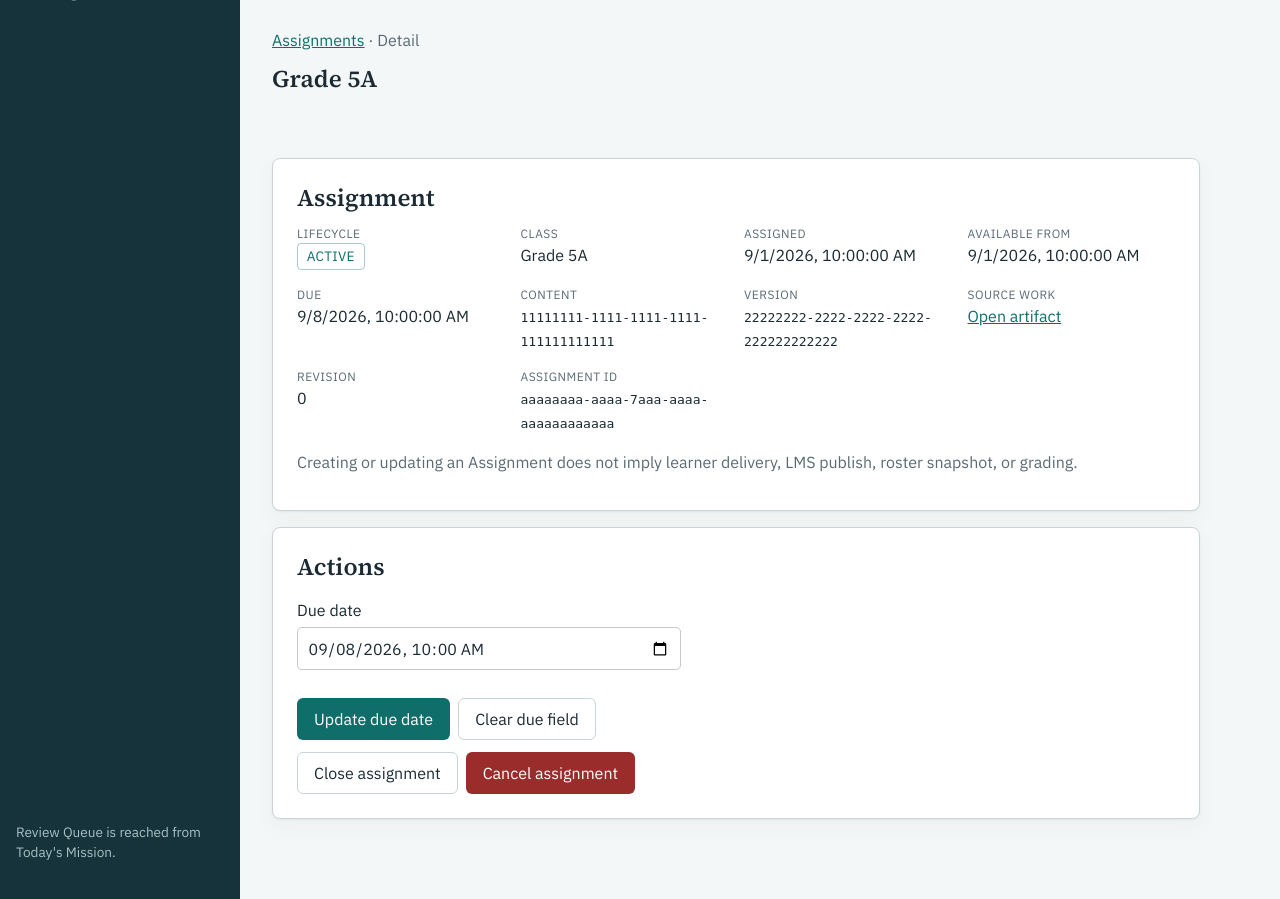
it: TOS-DEV06-I04 Assignment detail mutations › ACTIVE exposes due/close/cancel; fresh GET precedes PATCH with fresh If-Match
(page scrolled)
Check: the button "Update due date" is shown, box [297,698,450,740]
Clear the field labelled "Due date" at [489, 648], box [297,627,681,670]
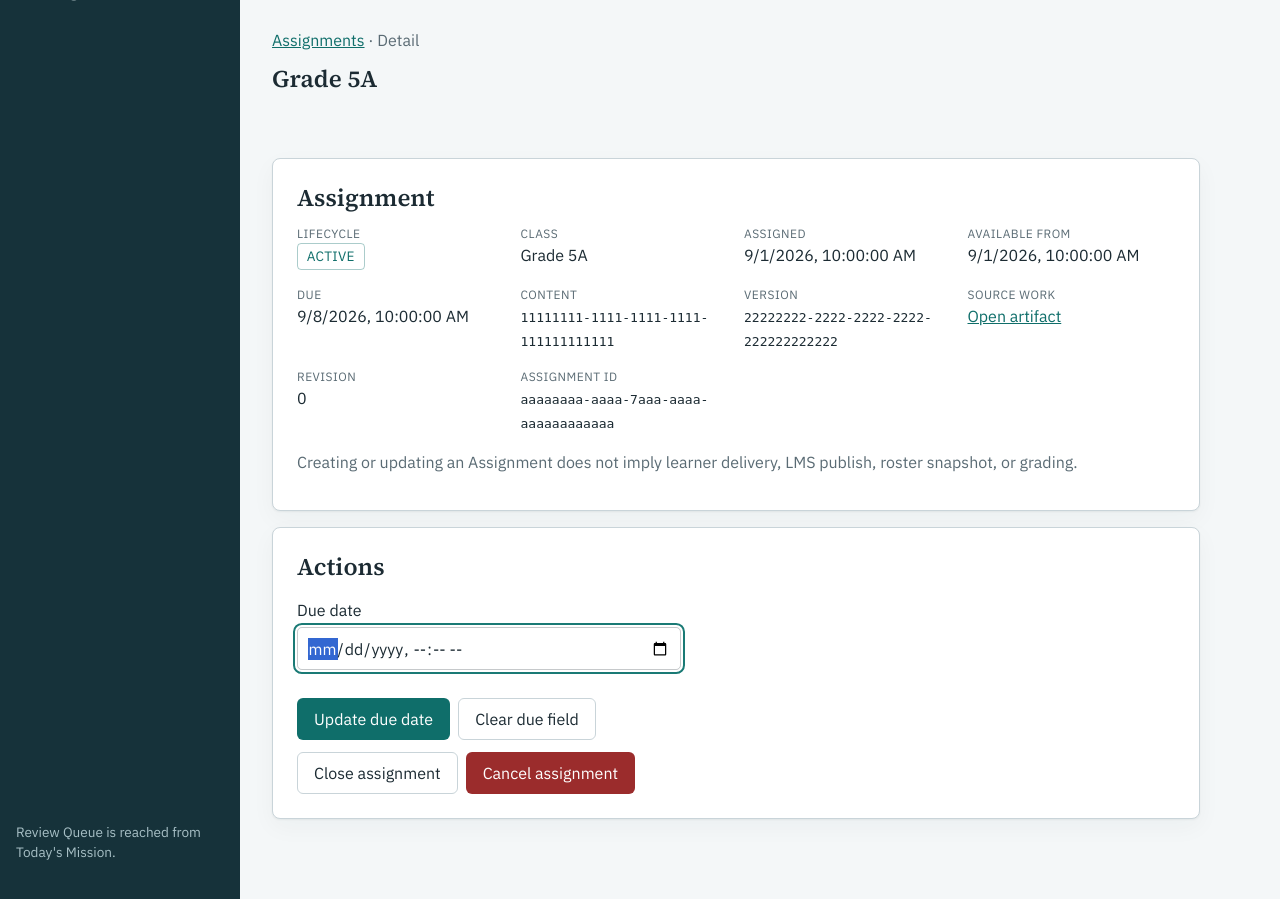
Click the button "Update due date" at [374, 719], box [297,698,450,740]
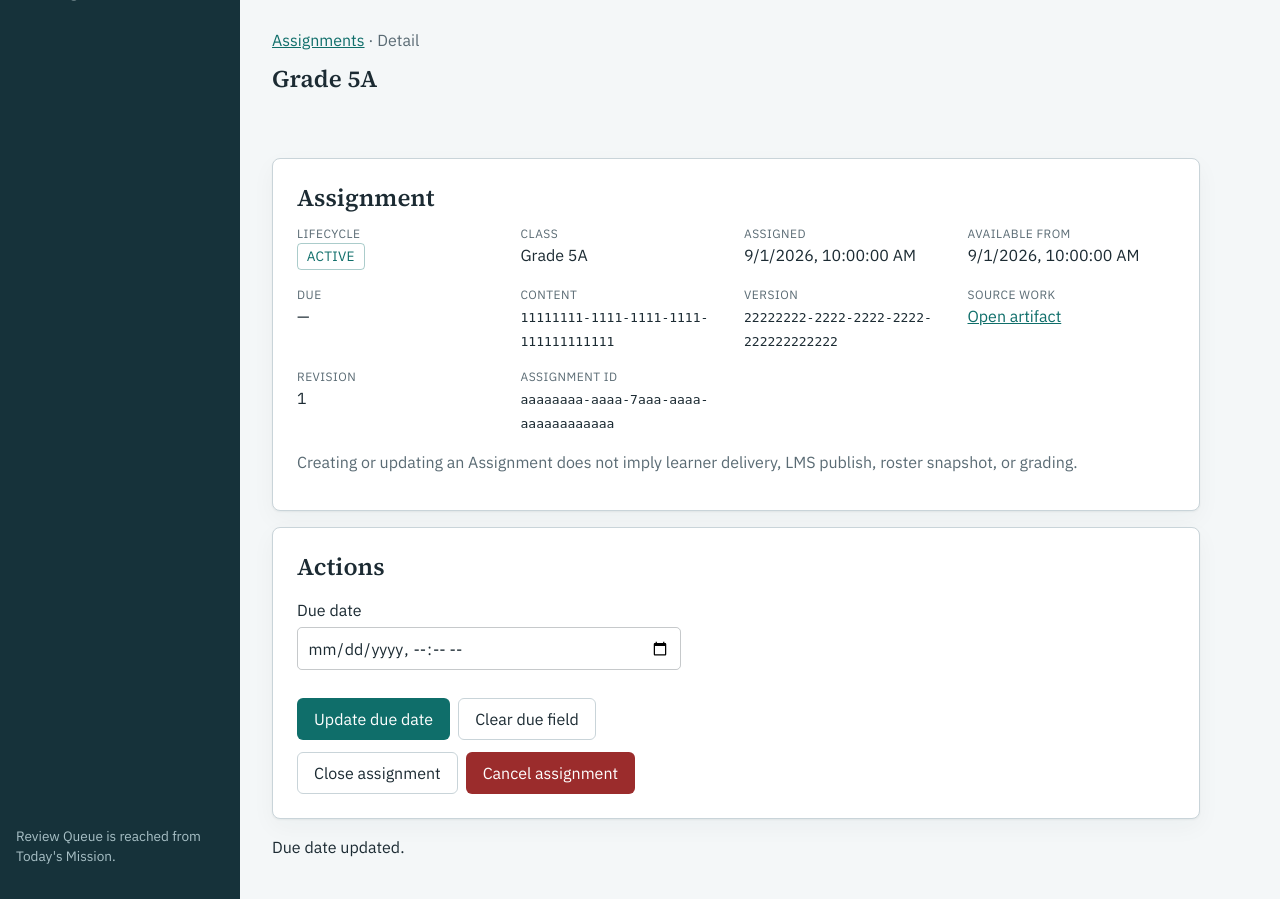
Check: the text "Due date updated." is shown, box [272,837,404,857]
